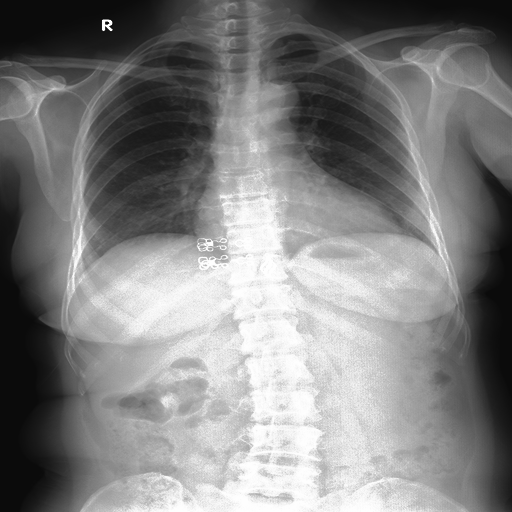Consolidation: (252, 80, 303, 121)
Nodule/Mass: (191, 189, 401, 245)
Pleural thickening: (288, 72, 360, 131)
